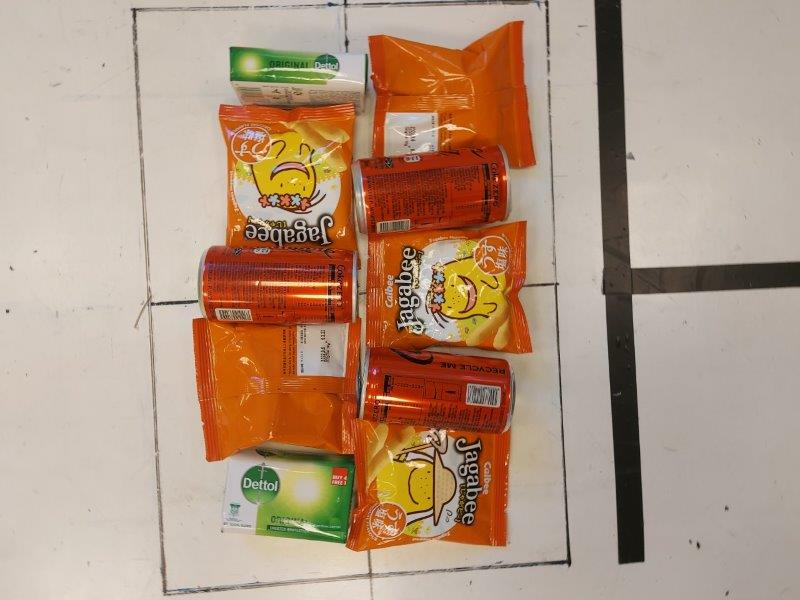Coke: (352, 146, 512, 233), (358, 347, 515, 435), (198, 247, 359, 322)
Dettol: (219, 453, 355, 543), (229, 47, 370, 107)
Jagabee: (367, 22, 538, 170), (192, 320, 358, 462), (218, 103, 358, 255), (346, 425, 509, 553)
